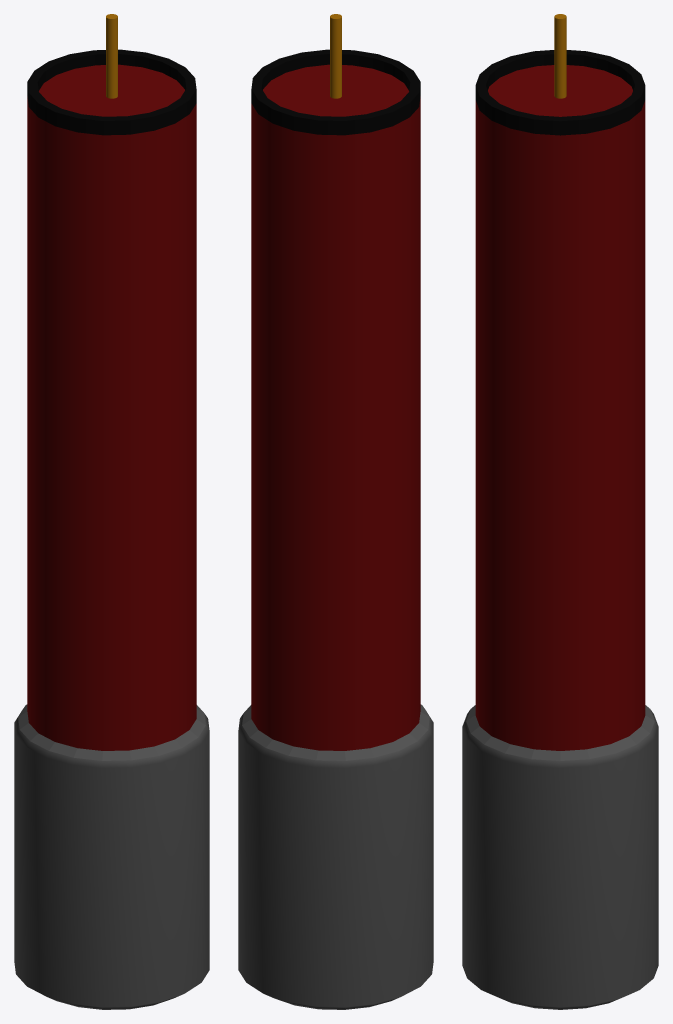
The model's file is Flare.fbx.
3 views of the same model, side by side, from view 1: azimuth 30°, elevation 25°; view 2: azimuth 150°, elevation 25°; view 3: azimuth 270°, elevation 25° (orthographic).
Visible parts, largest first — view 1: pCylinder2, pCylinder3; view 2: pCylinder2, pCylinder3; view 3: pCylinder2, pCylinder3.
Boxes of the visible parts, box(x1,y1,x2,y2) form: pCylinder2: box(14, 49, 209, 1009); pCylinder3: box(106, 14, 117, 98); pCylinder2: box(238, 49, 433, 1009); pCylinder3: box(330, 14, 341, 98); pCylinder2: box(462, 50, 658, 1009); pCylinder3: box(554, 14, 566, 98).
Bounding box in the file's own units: 0.0807 × 0.4346 × 0.0807.
